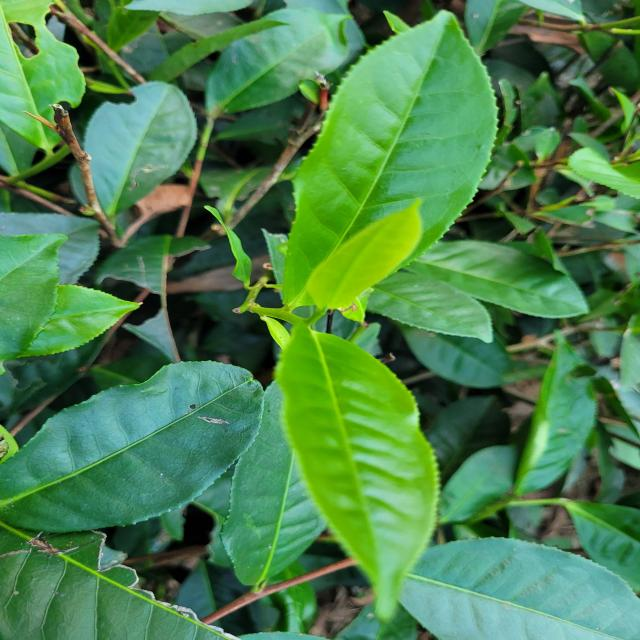Catagory A(1-2 days): (286, 198, 442, 332)
